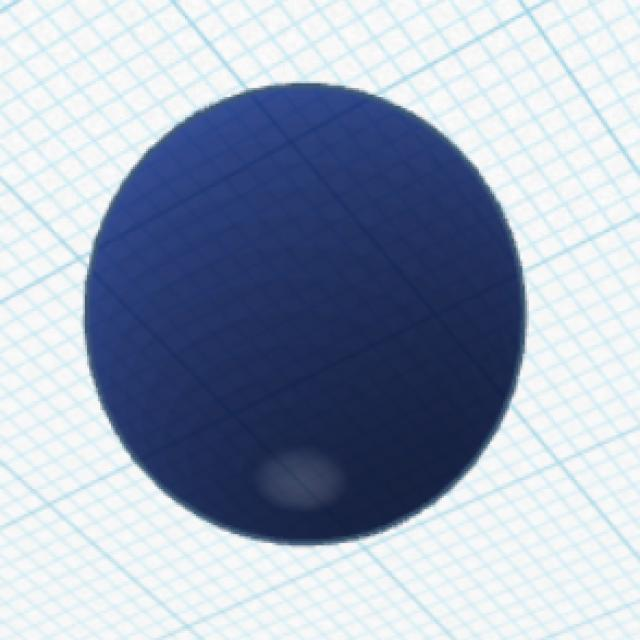sphere: (80, 78, 530, 550)
